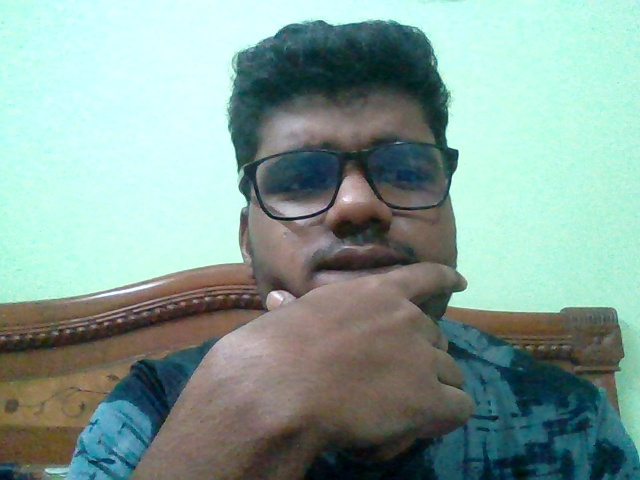Sheesh: (227, 13, 472, 463)
